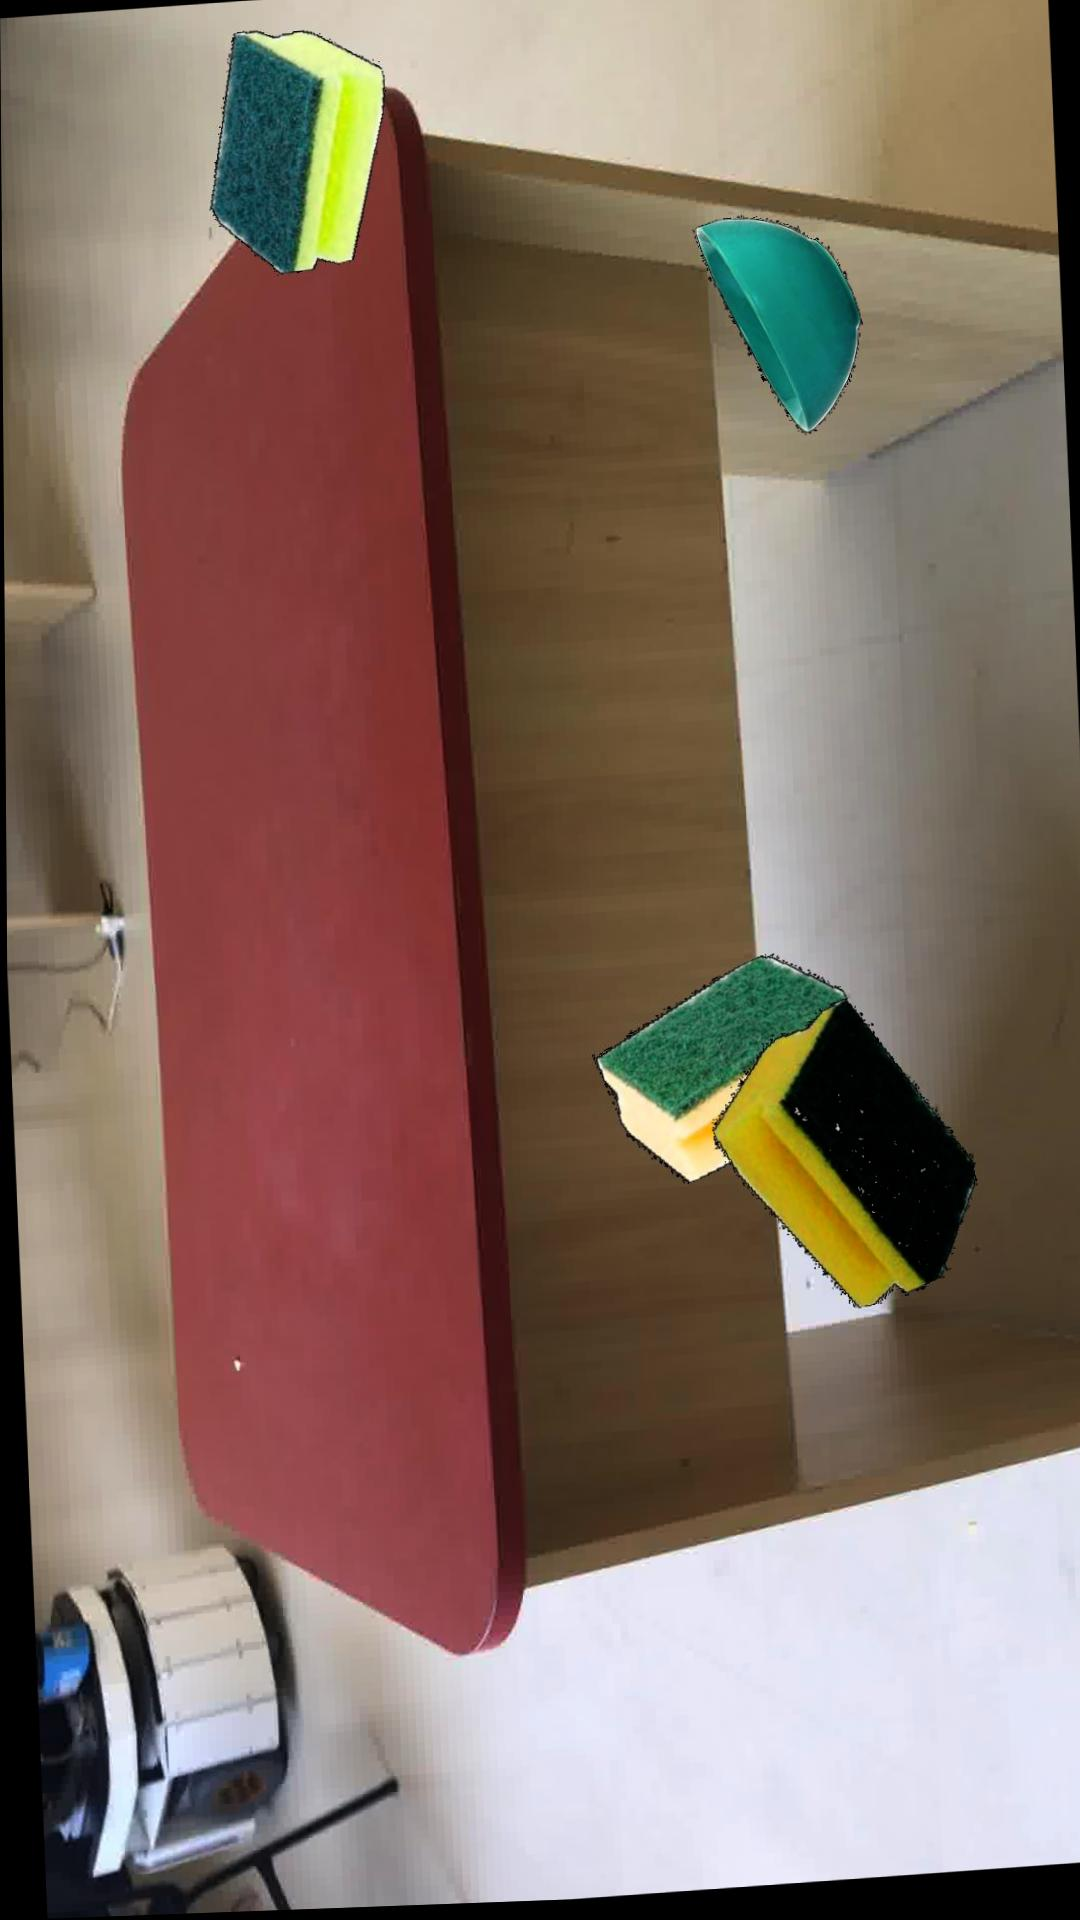bowl: (696, 225, 864, 442)
sponge: (712, 1007, 977, 1316), (596, 963, 847, 1191), (212, 34, 386, 278)
